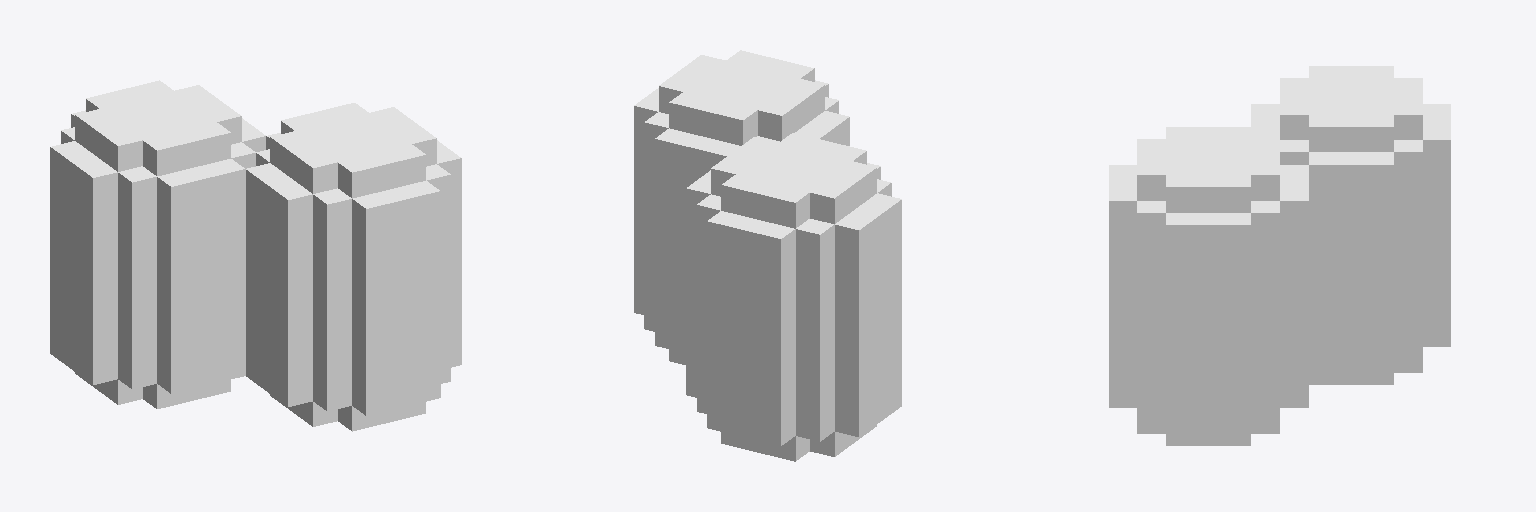
File: recycle_vox_can.obj
The picture shows the model from 3 angles: view 1: azimuth 30°, elevation 25°; view 2: azimuth 150°, elevation 25°; view 3: azimuth 270°, elevation 25°; orthographic projection.
Parts seen in each view (by area): view 1: object 1; view 2: object 1; view 3: object 1.
Boxes of the visible parts, x1=… form: object 1: x1=50, y1=80, x2=461, y2=431; object 1: x1=634, y1=50, x2=901, y2=461; object 1: x1=1109, y1=66, x2=1450, y2=445.
Size of the model in its own units: 1.2 by 1 by 1.2.